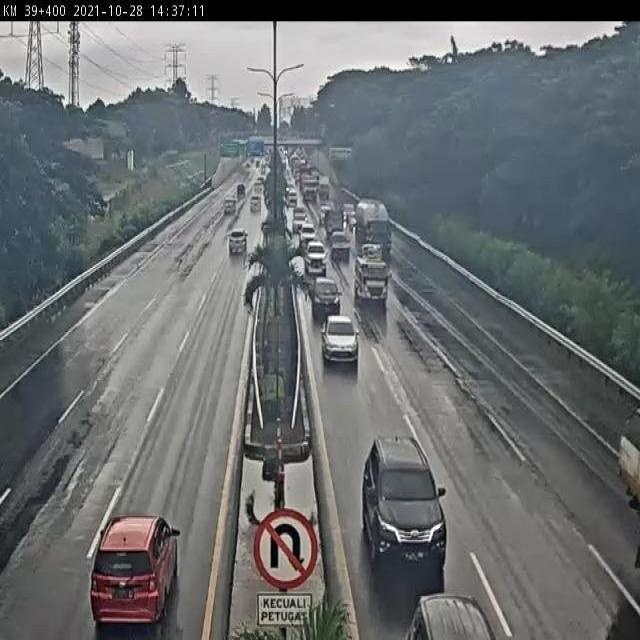big truck: (347, 195, 395, 265)
car: (355, 422, 450, 574), (85, 505, 183, 640), (320, 309, 363, 368), (308, 269, 341, 319), (223, 224, 252, 257), (302, 237, 326, 276), (326, 228, 352, 261), (296, 221, 316, 247), (218, 196, 238, 217), (247, 196, 263, 219), (291, 212, 309, 232), (235, 180, 248, 200), (253, 180, 265, 199)
small truck: (353, 249, 391, 307)
